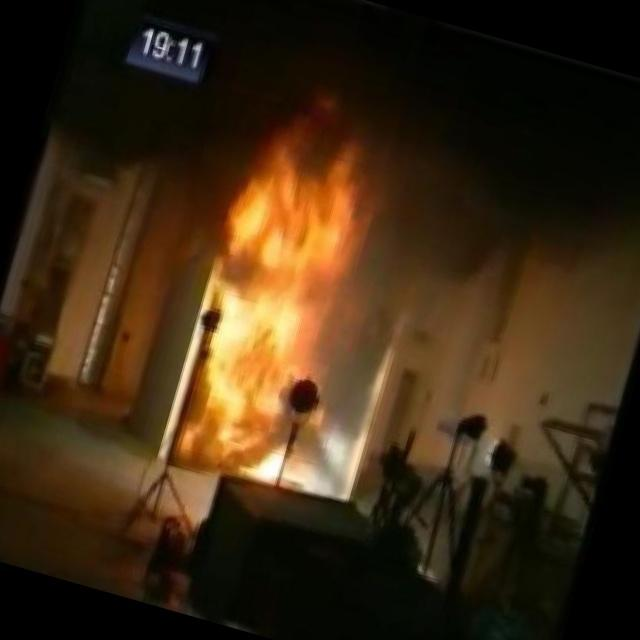fire: (161, 114, 412, 484)
smoke: (47, 0, 640, 284)
